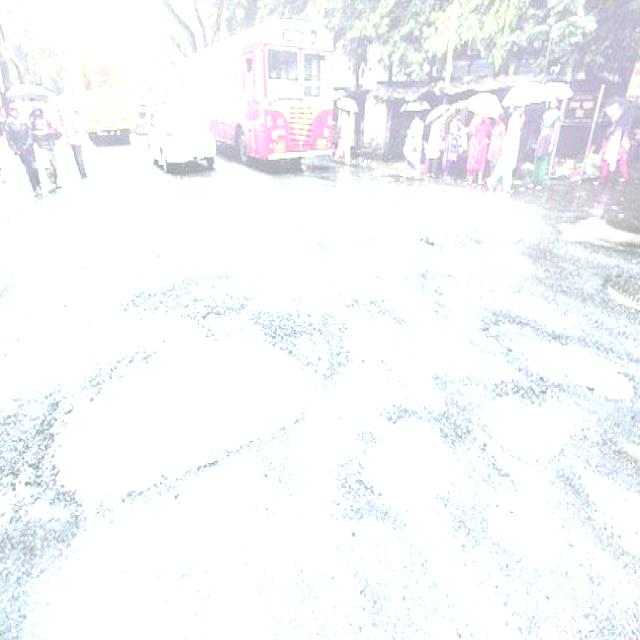Pothole: (328, 234, 640, 566), (33, 250, 312, 516)
